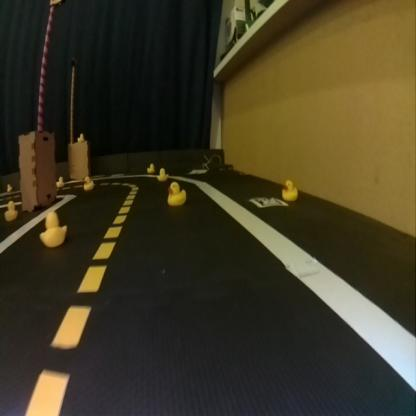Duckie: (40, 212, 66, 246), (167, 181, 185, 205), (281, 180, 297, 198), (4, 201, 17, 220), (156, 168, 168, 180), (84, 176, 92, 189), (147, 163, 153, 172), (78, 134, 84, 142), (56, 176, 62, 184), (6, 186, 12, 192)
QR code: (250, 197, 288, 207)
